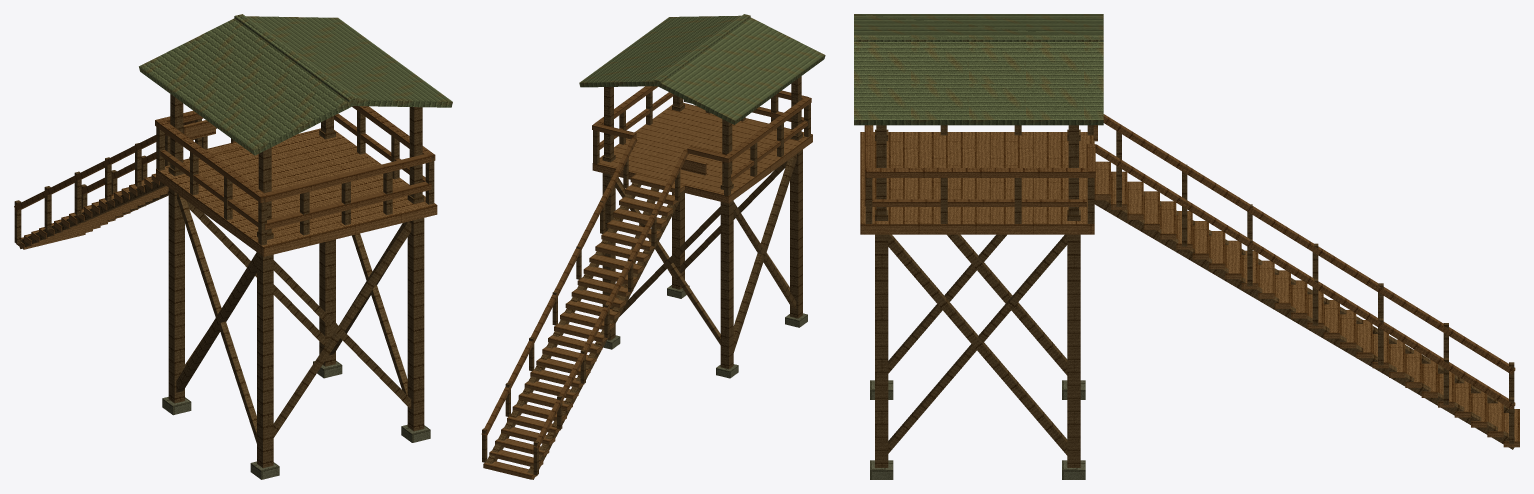
File: TorreVigilancia.glb
The picture shows the model from 3 angles, left to right: view 1: azimuth 30°, elevation 25°; view 2: azimuth 150°, elevation 25°; view 3: azimuth 270°, elevation 25°; orthographic projection. The views are drawn at different scales.
Parts seen in each view (by area): view 1: Torre de vigilancia; view 2: Torre de vigilancia; view 3: Torre de vigilancia.
Part boxes in pixels (x1,y1,x2,y2): Torre de vigilancia: (14, 14, 452, 479); Torre de vigilancia: (481, 14, 825, 479); Torre de vigilancia: (854, 14, 1519, 479).
Size of the model in its own units: 4.36 by 7.64 by 11.6.
5 materials, 5 textured.
